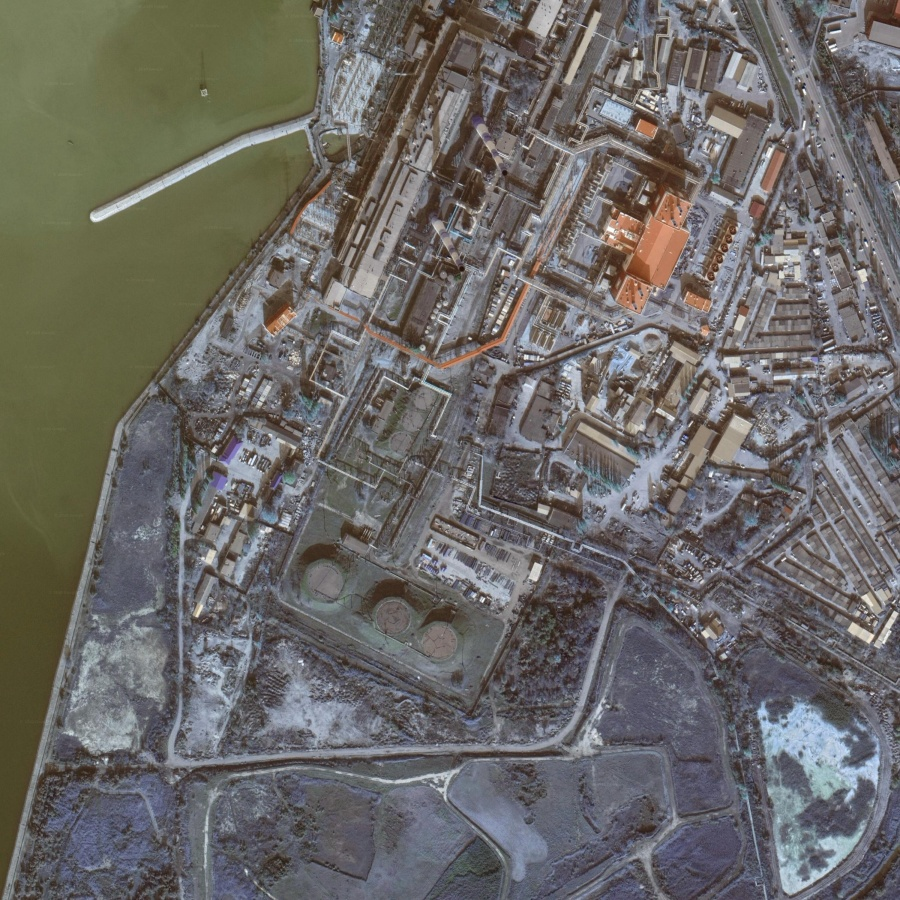PowerPlant: (288, 380, 474, 674)
